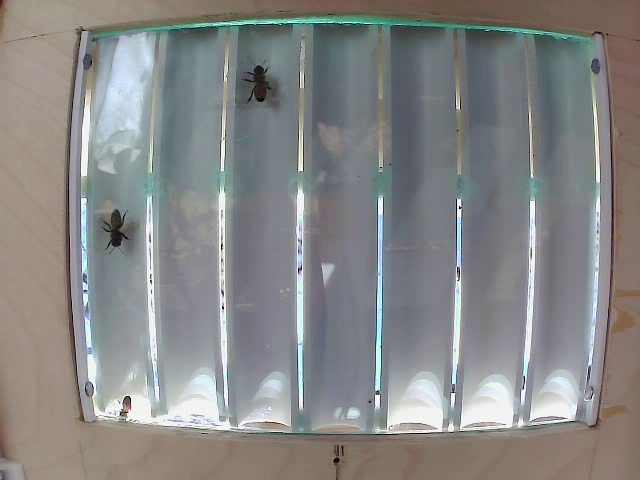bee: (234, 54, 302, 105), (100, 197, 135, 263)
